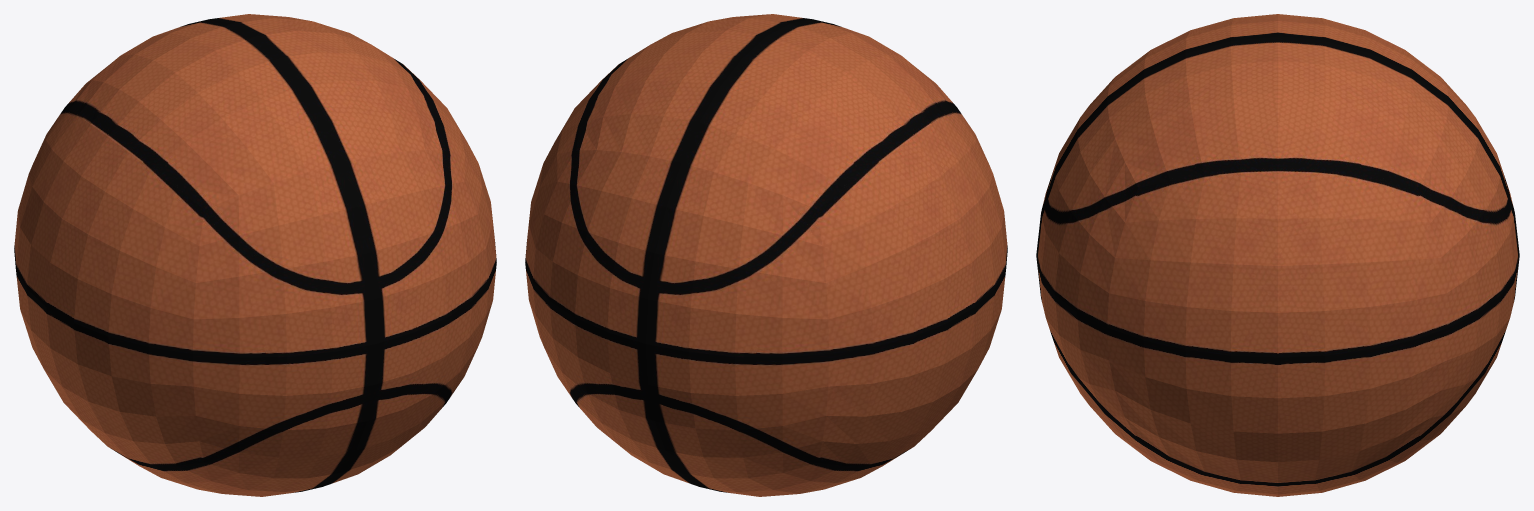
File: basketball.glb
The picture shows the model from 3 angles, left to right: view 1: azimuth 30°, elevation 25°; view 2: azimuth 150°, elevation 25°; view 3: azimuth 270°, elevation 25°; orthographic projection.
Parts seen in each view (by area): view 1: Cube.001_0; view 2: Cube.001_0; view 3: Cube.001_0.
Boxes of the visible parts, x1=… form: Cube.001_0: x1=14, y1=14, x2=496, y2=496; Cube.001_0: x1=525, y1=14, x2=1007, y2=496; Cube.001_0: x1=1036, y1=14, x2=1519, y2=496.
Bounding box in the file's own units: 3.46 × 3.46 × 3.46.
1 material, 1 textured.
